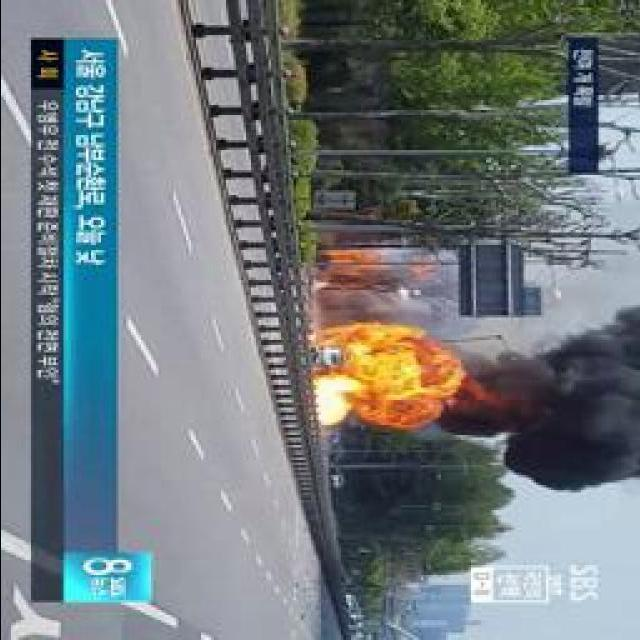Fire: (314, 326, 432, 419)
